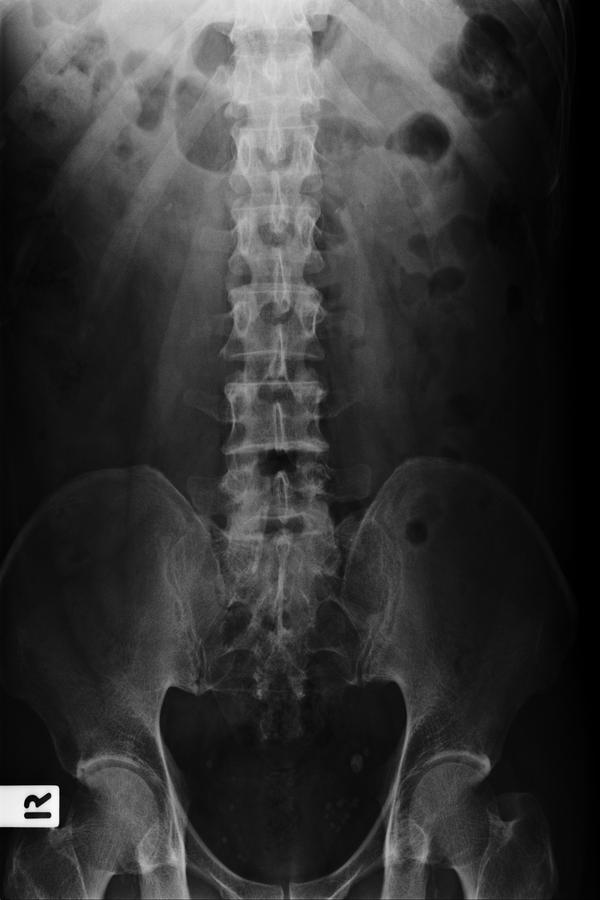lumbar scoliosis: (211, 189, 350, 575)
